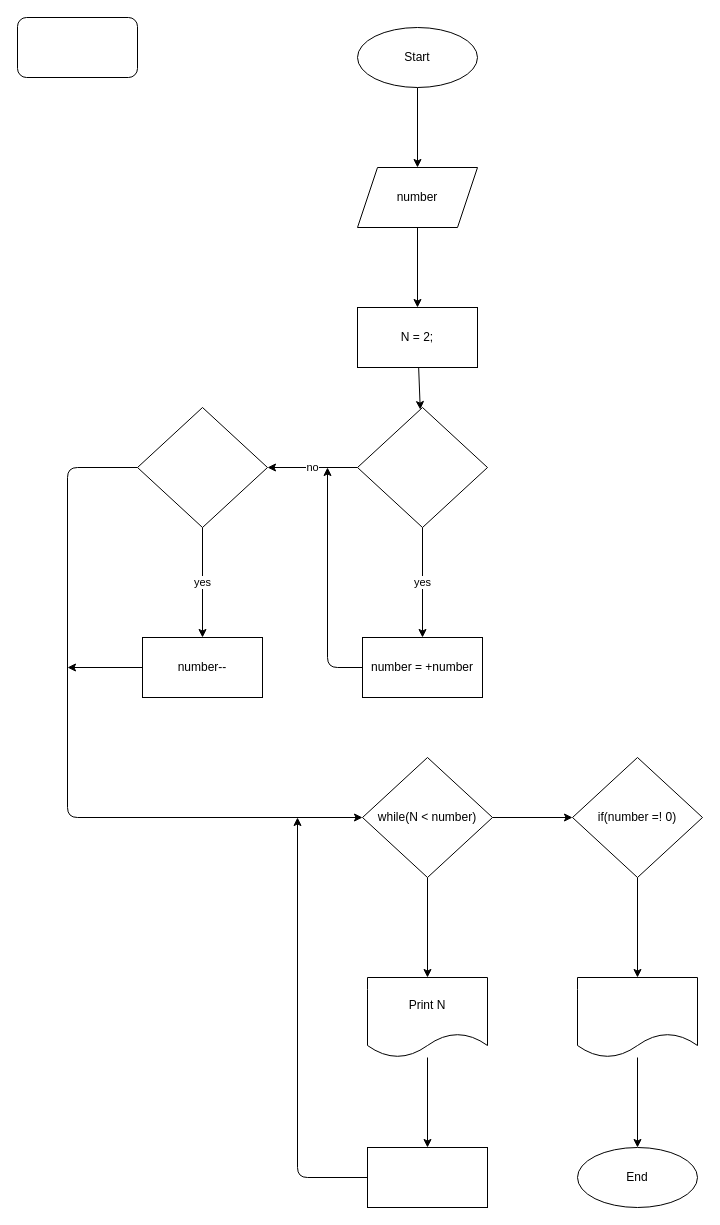
The diagram is 720 pixels wide and 1225 high, and some of its shapes have lost their labels. The centre of each missing label's shape, as x and y in pixels:
"if(0 != number % 2)" belongs at point 202,467.
"if(number < 0)" belongs at point 422,467.
"N+= 2" belongs at point 427,1177.
"Print number" belongs at point 637,1017.
"Показать четные числа от 1 до N" belongs at point 77,47.
